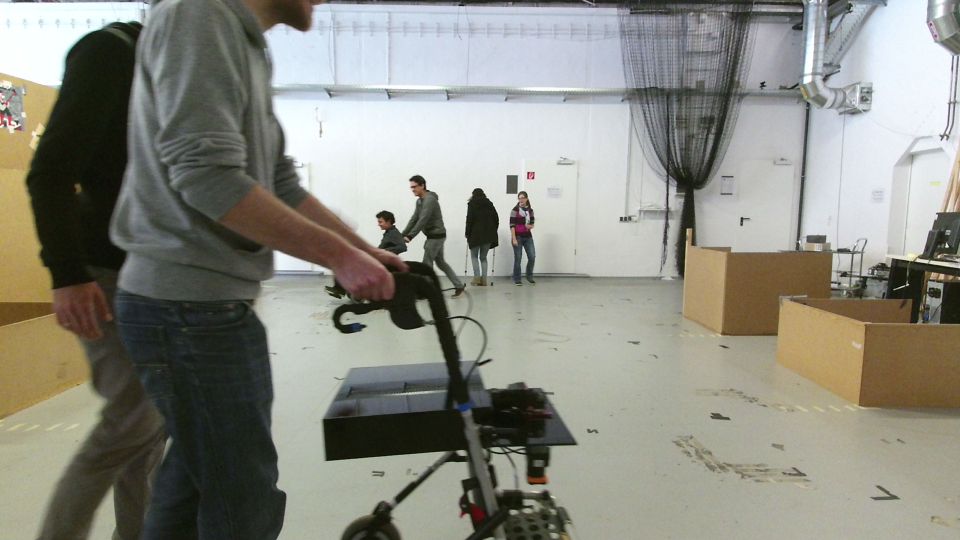crutches: (459, 187, 504, 291)
